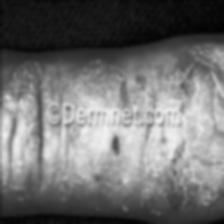Non-Cancerous Skin Condition: (0, 133, 224, 207), (0, 55, 224, 102)
